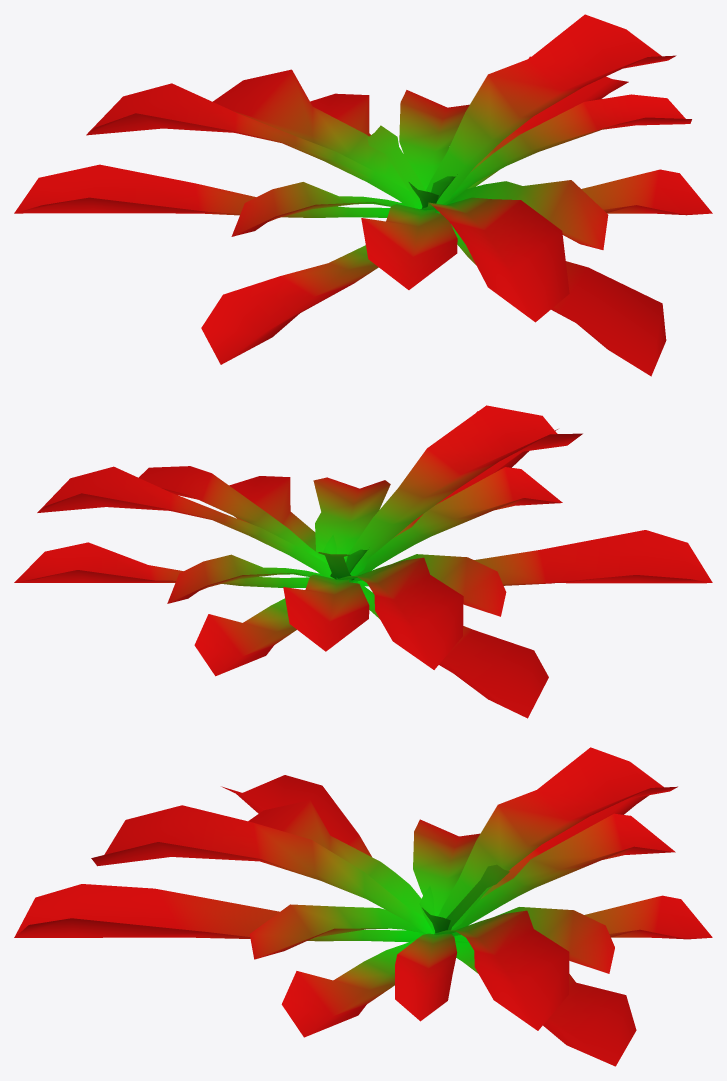
Rendered from Var10_LOD0.fbx.
3 views of the same model, one above another, from view 1: azimuth 30°, elevation 25°; view 2: azimuth 150°, elevation 25°; view 3: azimuth 270°, elevation 25° (orthographic). The views are drawn at different scales.
Parts seen in each view (by area): view 1: _yvzz_Var10_LOD0; view 2: _yvzz_Var10_LOD0; view 3: _yvzz_Var10_LOD0.
Part boxes in pixels (x1,y1,x2,y2): _yvzz_Var10_LOD0: [14, 14, 712, 376]; _yvzz_Var10_LOD0: [14, 405, 712, 718]; _yvzz_Var10_LOD0: [14, 747, 712, 1066].
Bounding box in the file's own units: 31.42 × 5.29 × 33.06.
